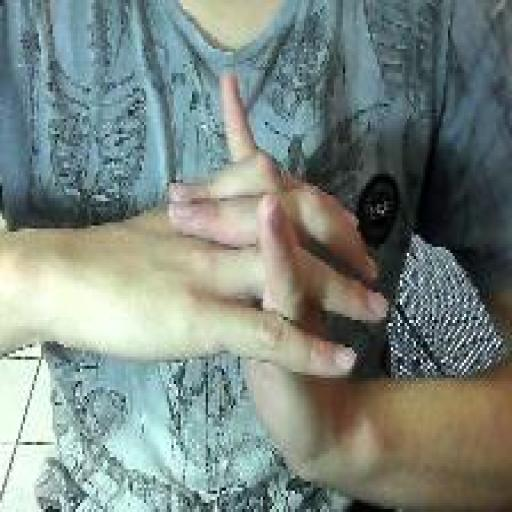Ushi -ox-: (164, 66, 391, 502)
